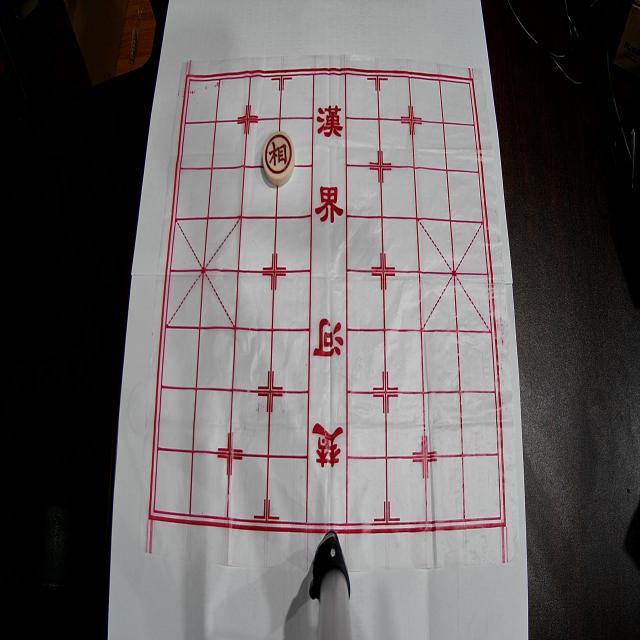red-elephant: (263, 132, 295, 186)
